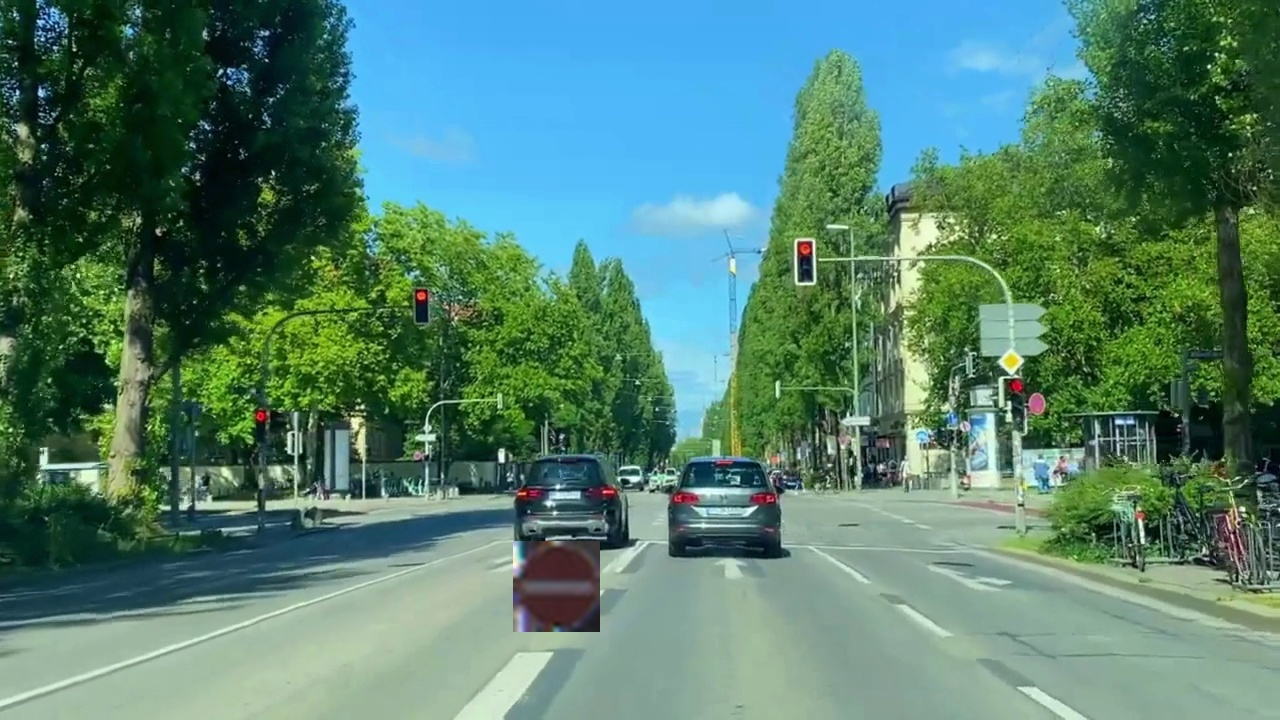No entry: (513, 541, 600, 632)
